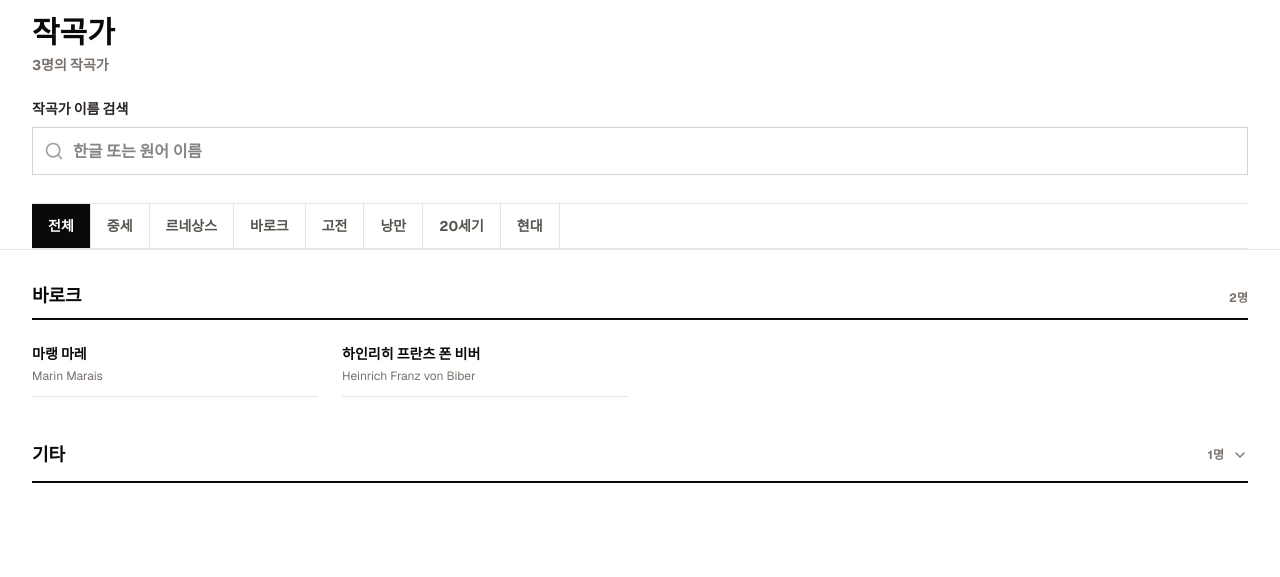
ComposerDirectory › keeps period headings and Korean name order without sort controls
The width and height of the screenshot is (1280, 577).
Check: the element "바로크" is shown, box top-left (32, 282), bottom-right (1248, 397)
Check: the link "테스트 작곡가" is not shown
Click the button "기타 1명" at coordinates (49, 454), box top-left (32, 437), bottom-right (1248, 481)
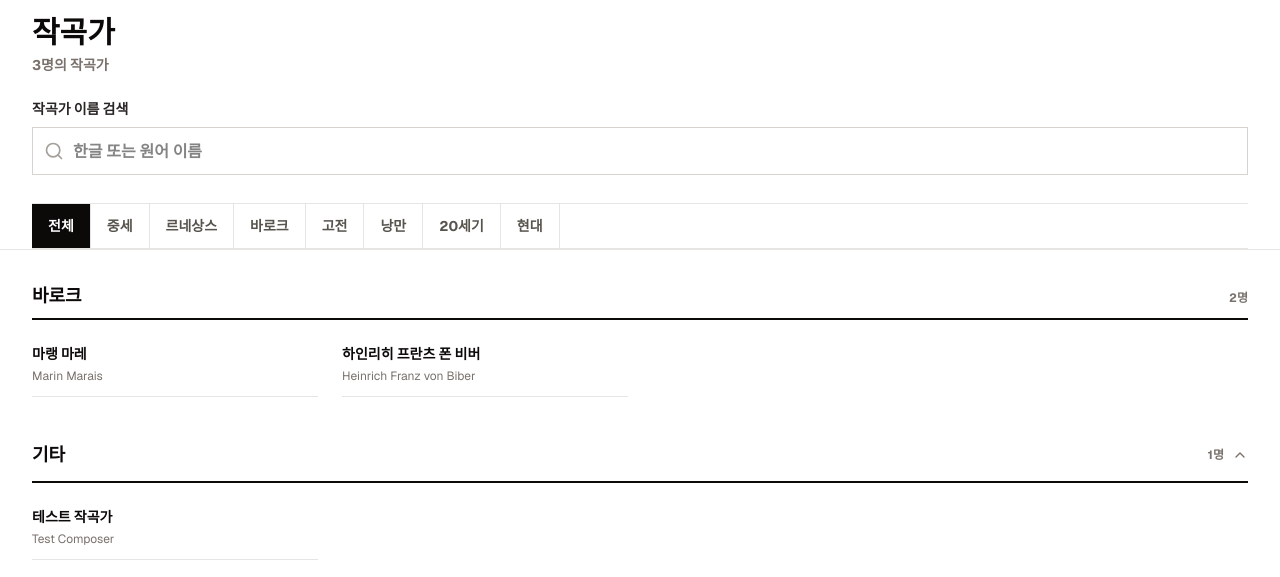
Check: the button "기타 1명" is expanded
Click the button "기타 1명" at coordinates (49, 454), box top-left (32, 437), bottom-right (1248, 481)
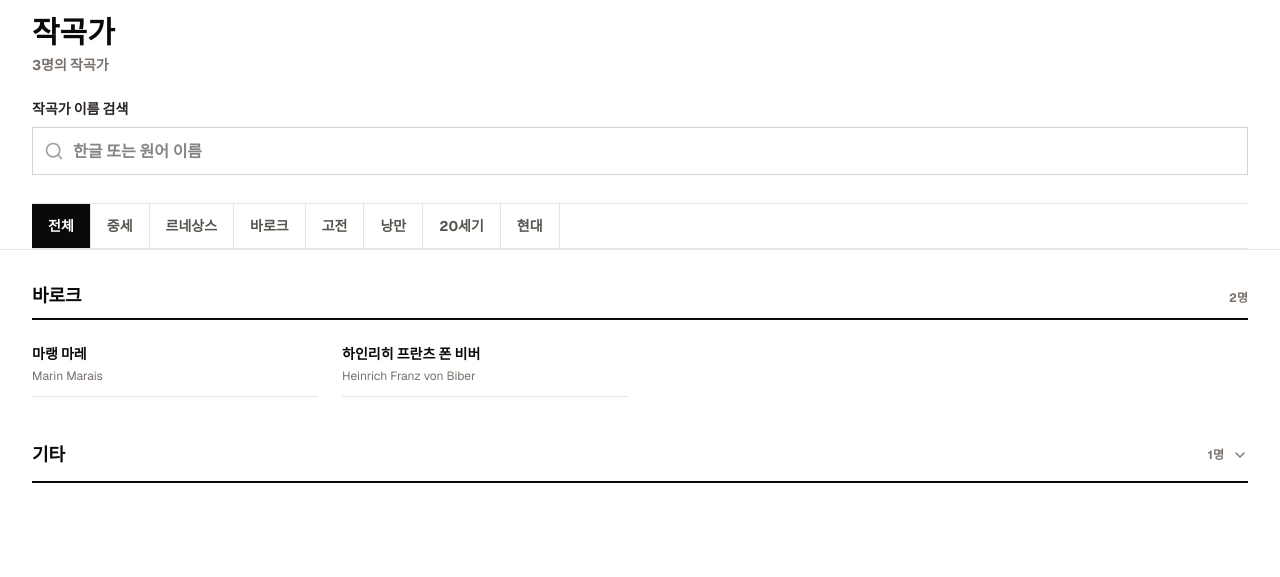
Check: the link "테스트 작곡가" is gone
Type "Test Composer" into the search field labelled "작곡가 이름 검색" at coordinates (640, 151), box top-left (32, 127), bottom-right (1248, 175)
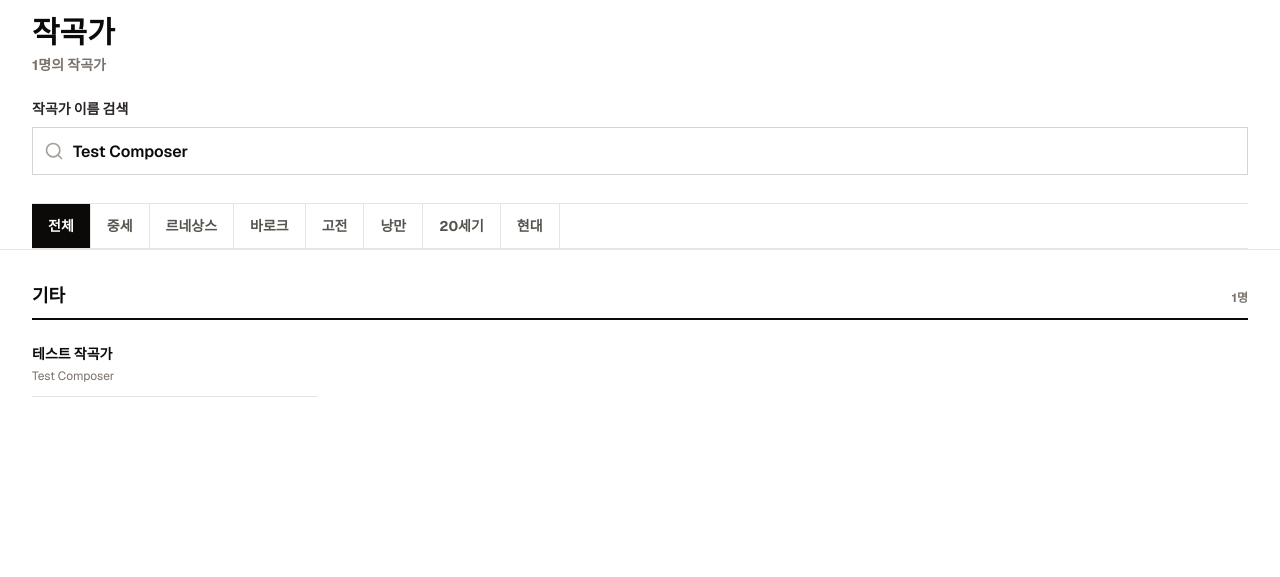
Check: the link "테스트 작곡가 Test Composer" is shown, box top-left (32, 345), bottom-right (114, 384)
Clear the search field labelled "작곡가 이름 검색" at coordinates (640, 151), box top-left (32, 127), bottom-right (1248, 175)
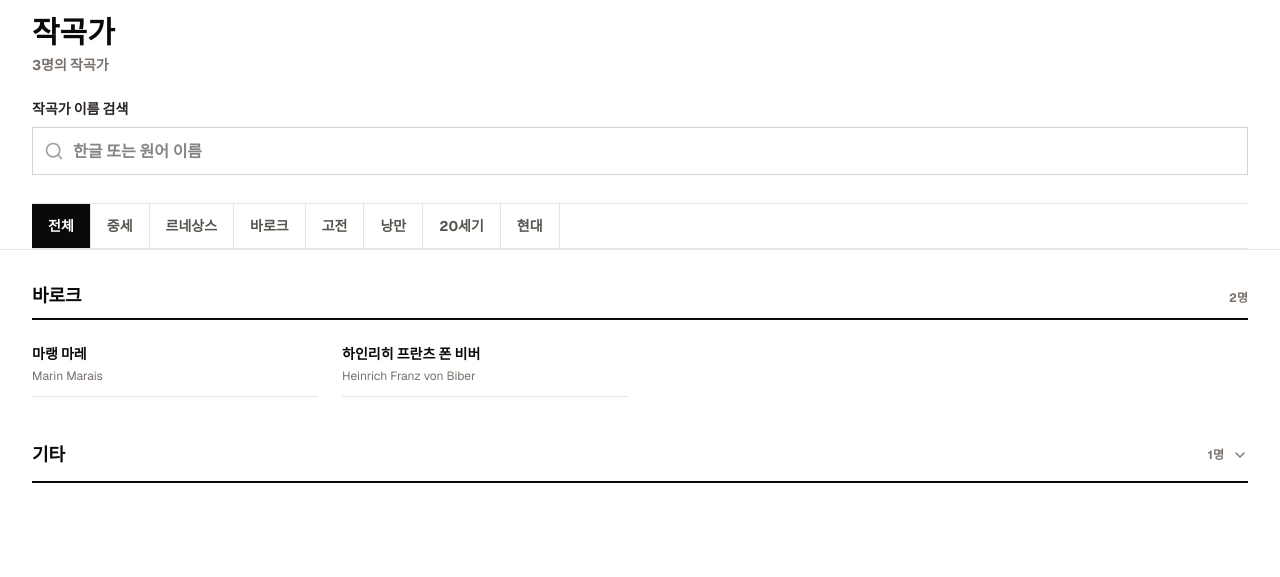
Check: the link "테스트 작곡가" is gone
